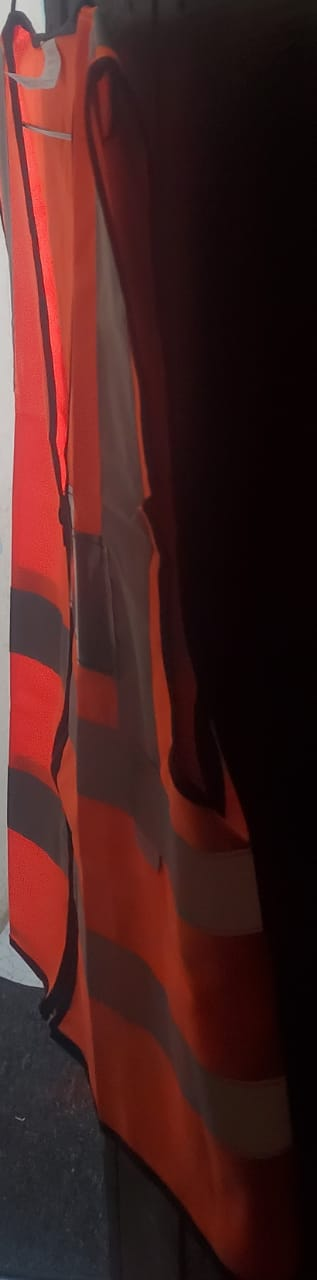vest: (10, 0, 317, 1260)
